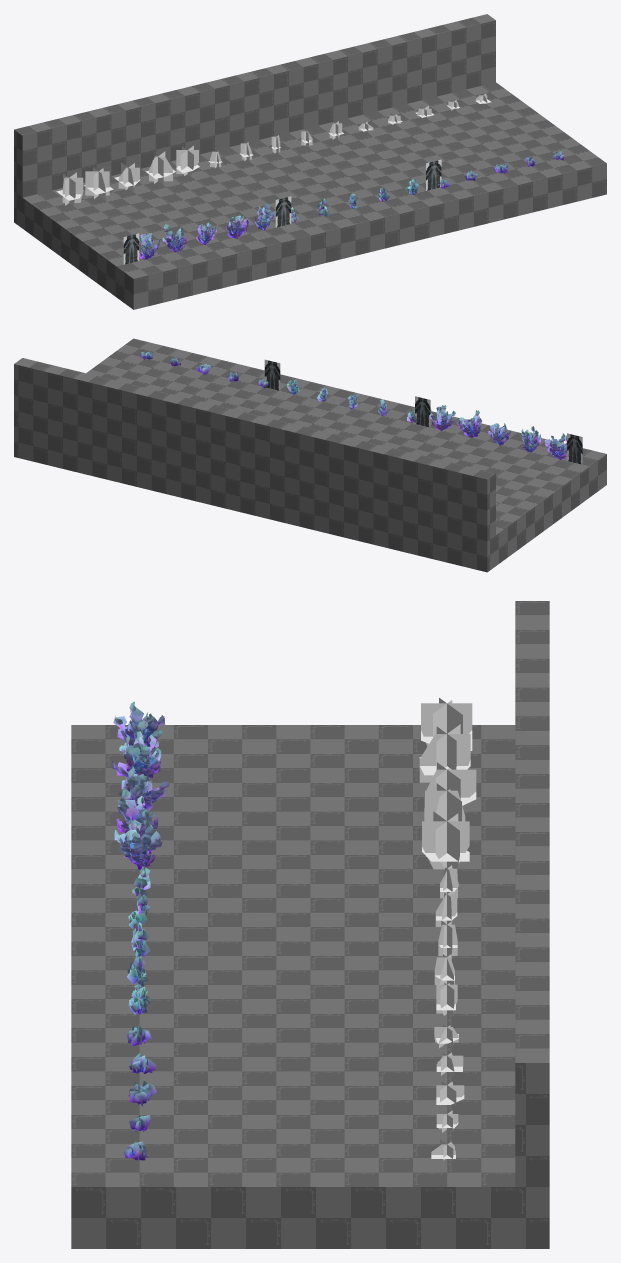
File: Bush models pack.fbx
3 renders of one model, top to bottom at view 1: azimuth 30°, elevation 25°; view 2: azimuth 150°, elevation 25°; view 3: azimuth 270°, elevation 25°, orthographic. The views are drawn at different scales.
Parts seen in each view (by area): view 1: Ground, Man ref, Bush_big_002_Billboard, Bush_big_001_Billboard, Bush_big_004_Billboard, Bush_big_005_Billboard, Bush_big_003_Billboard, Bush_big_002_LOD0; view 2: Ground, Man ref, Bush_big_004_LOD0, Bush_big_005_LOD0, Bush_big_001_LOD0, Bush_big_002_LOD0, Bush_big_003_LOD0; view 3: Ground, Bush_big_005_Billboard, Bush_big_002_Billboard, Bush_big_001_Billboard, Bush_big_002_LOD0, Bush_big_005_LOD0, Bush_big_003_Billboard, Bush_big_004_Billboard, Bush_big_001_LOD0, Bush_big_004_LOD0, Bush_big_003_LOD0.
Part boxes in pixels (box(x1,y1,x2,y2)): Ground: box(14, 14, 606, 309); Man ref: box(123, 159, 441, 264); Bush_big_002_Billboard: box(84, 167, 113, 200); Bush_big_001_Billboard: box(56, 172, 83, 205); Bush_big_004_Billboard: box(145, 151, 175, 184); Bush_big_005_Billboard: box(176, 145, 199, 176); Bush_big_003_Billboard: box(114, 162, 139, 191); Bush_big_002_LOD0: box(162, 224, 186, 252); Ground: box(14, 338, 606, 572); Man ref: box(264, 359, 582, 464); Bush_big_004_LOD0: box(456, 410, 482, 437); Bush_big_005_LOD0: box(429, 405, 455, 430); Bush_big_001_LOD0: box(544, 433, 566, 459); Bush_big_002_LOD0: box(521, 426, 541, 452); Bush_big_003_LOD0: box(487, 423, 511, 445); Ground: box(71, 601, 549, 1248); Bush_big_005_Billboard: box(422, 811, 469, 869); Bush_big_002_Billboard: box(419, 724, 470, 782); Bush_big_001_Billboard: box(421, 698, 472, 750); Bush_big_002_LOD0: box(112, 729, 163, 778); Bush_big_005_LOD0: box(114, 819, 162, 869); Bush_big_003_Billboard: box(426, 762, 476, 805); Bush_big_004_Billboard: box(424, 783, 465, 821); Bush_big_001_LOD0: box(113, 701, 165, 746); Bush_big_004_LOD0: box(116, 787, 158, 836); Bush_big_003_LOD0: box(118, 767, 169, 810).
Size of what is drawn, in the model's own units: 3200 by 600 by 1400.
